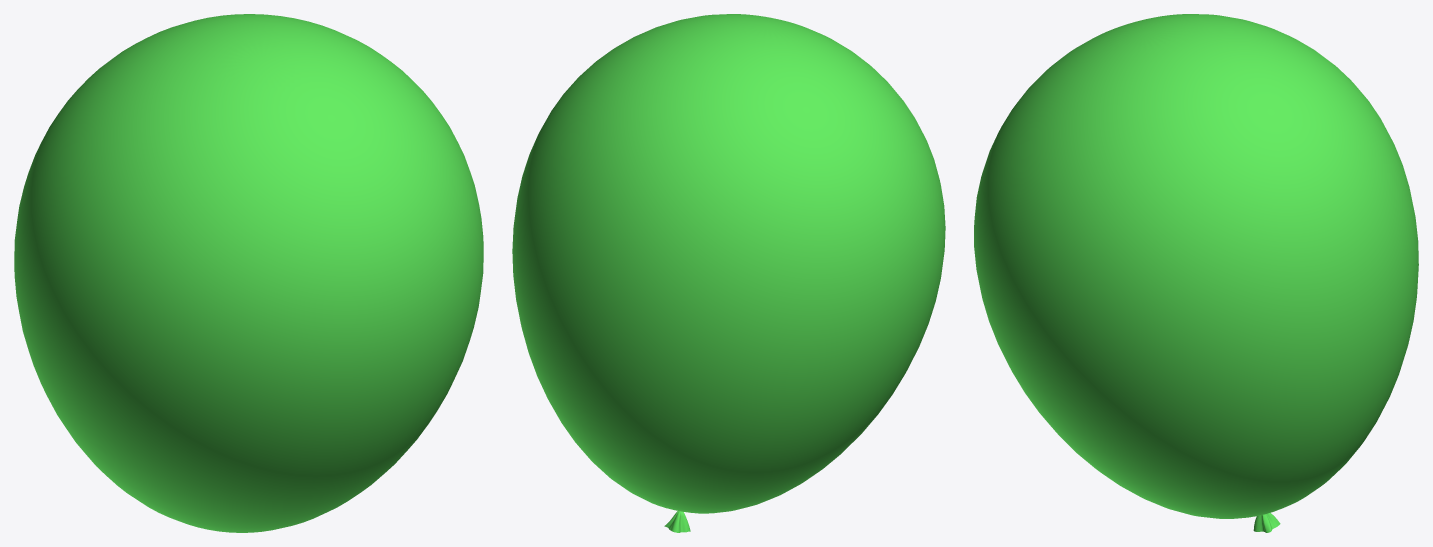
The model's file is balloongreen.fbx.
3 views of the same model, side by side, from view 1: azimuth 30°, elevation 25°; view 2: azimuth 150°, elevation 25°; view 3: azimuth 270°, elevation 25° (orthographic). The views are drawn at different scales.
Parts seen in each view (by area): view 1: Sphere.003; view 2: Sphere.003; view 3: Sphere.003.
Boxes of the visible parts, x1,y1,x2,y2 form: Sphere.003: (14,14,483,532); Sphere.003: (512,14,945,532); Sphere.003: (974,14,1418,532).
Bounding box in the file's own units: 180 × 219 × 181.
